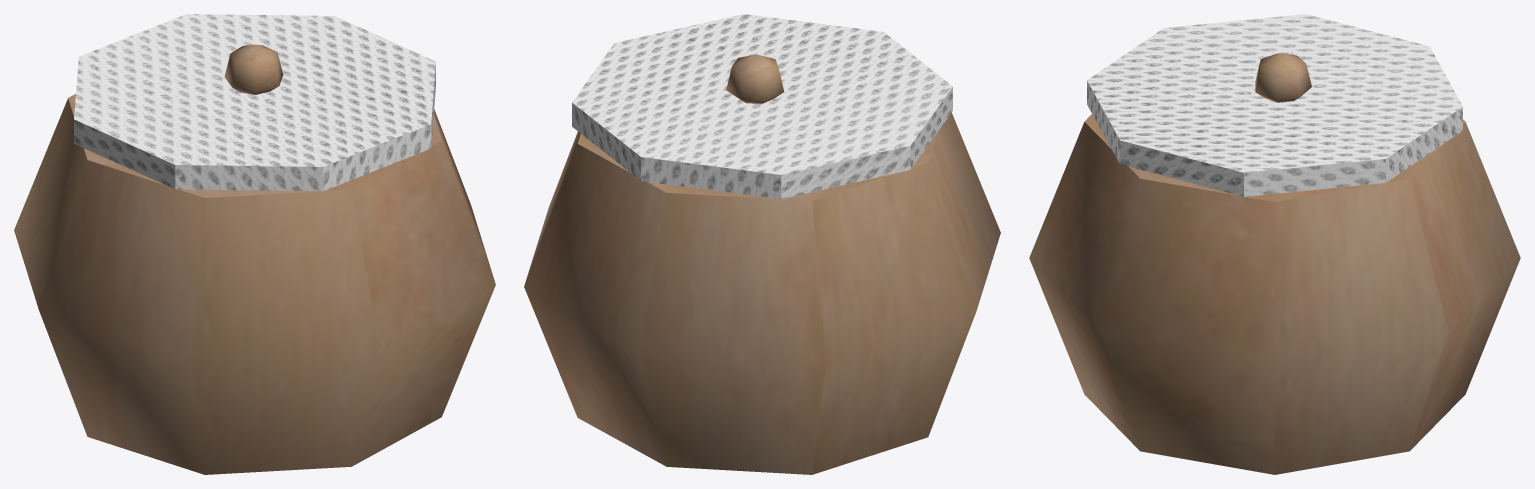
3 renders of one model, left to right at view 1: azimuth 30°, elevation 25°; view 2: azimuth 150°, elevation 25°; view 3: azimuth 270°, elevation 25°, orthographic.
Parts seen in each view (by area): view 1: Cylinder001, Object001, Sphere001; view 2: Cylinder001, Object001, Sphere001; view 3: Cylinder001, Object001, Sphere001.
Part boxes in pixels (bbox=[...]): Cylinder001: bbox=[14, 94, 495, 474]; Object001: bbox=[74, 14, 435, 191]; Sphere001: bbox=[224, 44, 283, 94]; Cylinder001: bbox=[524, 112, 1000, 474]; Object001: bbox=[572, 14, 952, 198]; Sphere001: bbox=[726, 54, 784, 103]; Cylinder001: bbox=[1029, 114, 1520, 474]; Object001: bbox=[1087, 14, 1462, 196]; Sphere001: bbox=[1255, 53, 1311, 102].
Size of the model in its own units: 108 by 83.48 by 108.
2 materials, 2 textured.
